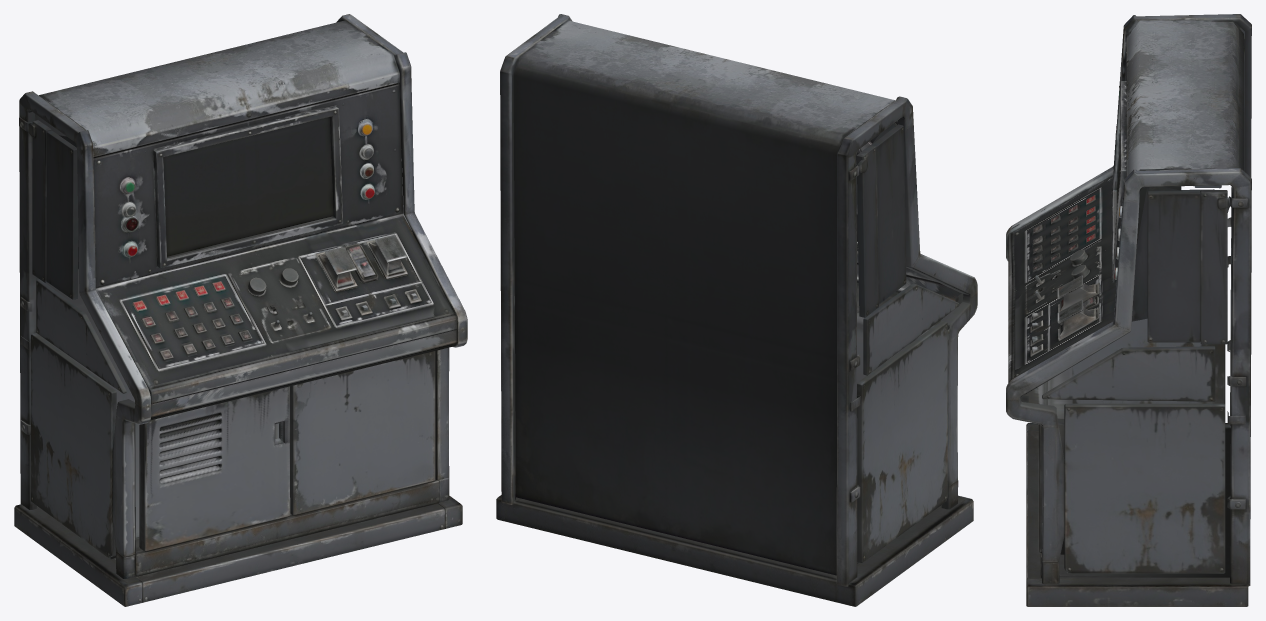
The model's file is 操控台.glb.
The picture shows the model from 3 angles, left to right: view 1: azimuth 30°, elevation 25°; view 2: azimuth 150°, elevation 25°; view 3: azimuth 270°, elevation 25°; orthographic projection. The views are drawn at different scales.
Visible parts, largest first — view 1: tripo_node_aea0ea03-1df7-4c39-be4c-f2080d89fffa; view 2: tripo_node_aea0ea03-1df7-4c39-be4c-f2080d89fffa; view 3: tripo_node_aea0ea03-1df7-4c39-be4c-f2080d89fffa.
Boxes of the visible parts, x1,y1,x2,y2 form: tripo_node_aea0ea03-1df7-4c39-be4c-f2080d89fffa: [14, 14, 467, 606]; tripo_node_aea0ea03-1df7-4c39-be4c-f2080d89fffa: [496, 14, 977, 606]; tripo_node_aea0ea03-1df7-4c39-be4c-f2080d89fffa: [1006, 14, 1251, 606].
Size of the model in its own units: 0.8149 by 0.9995 by 0.5142.
1 material, 1 textured.
